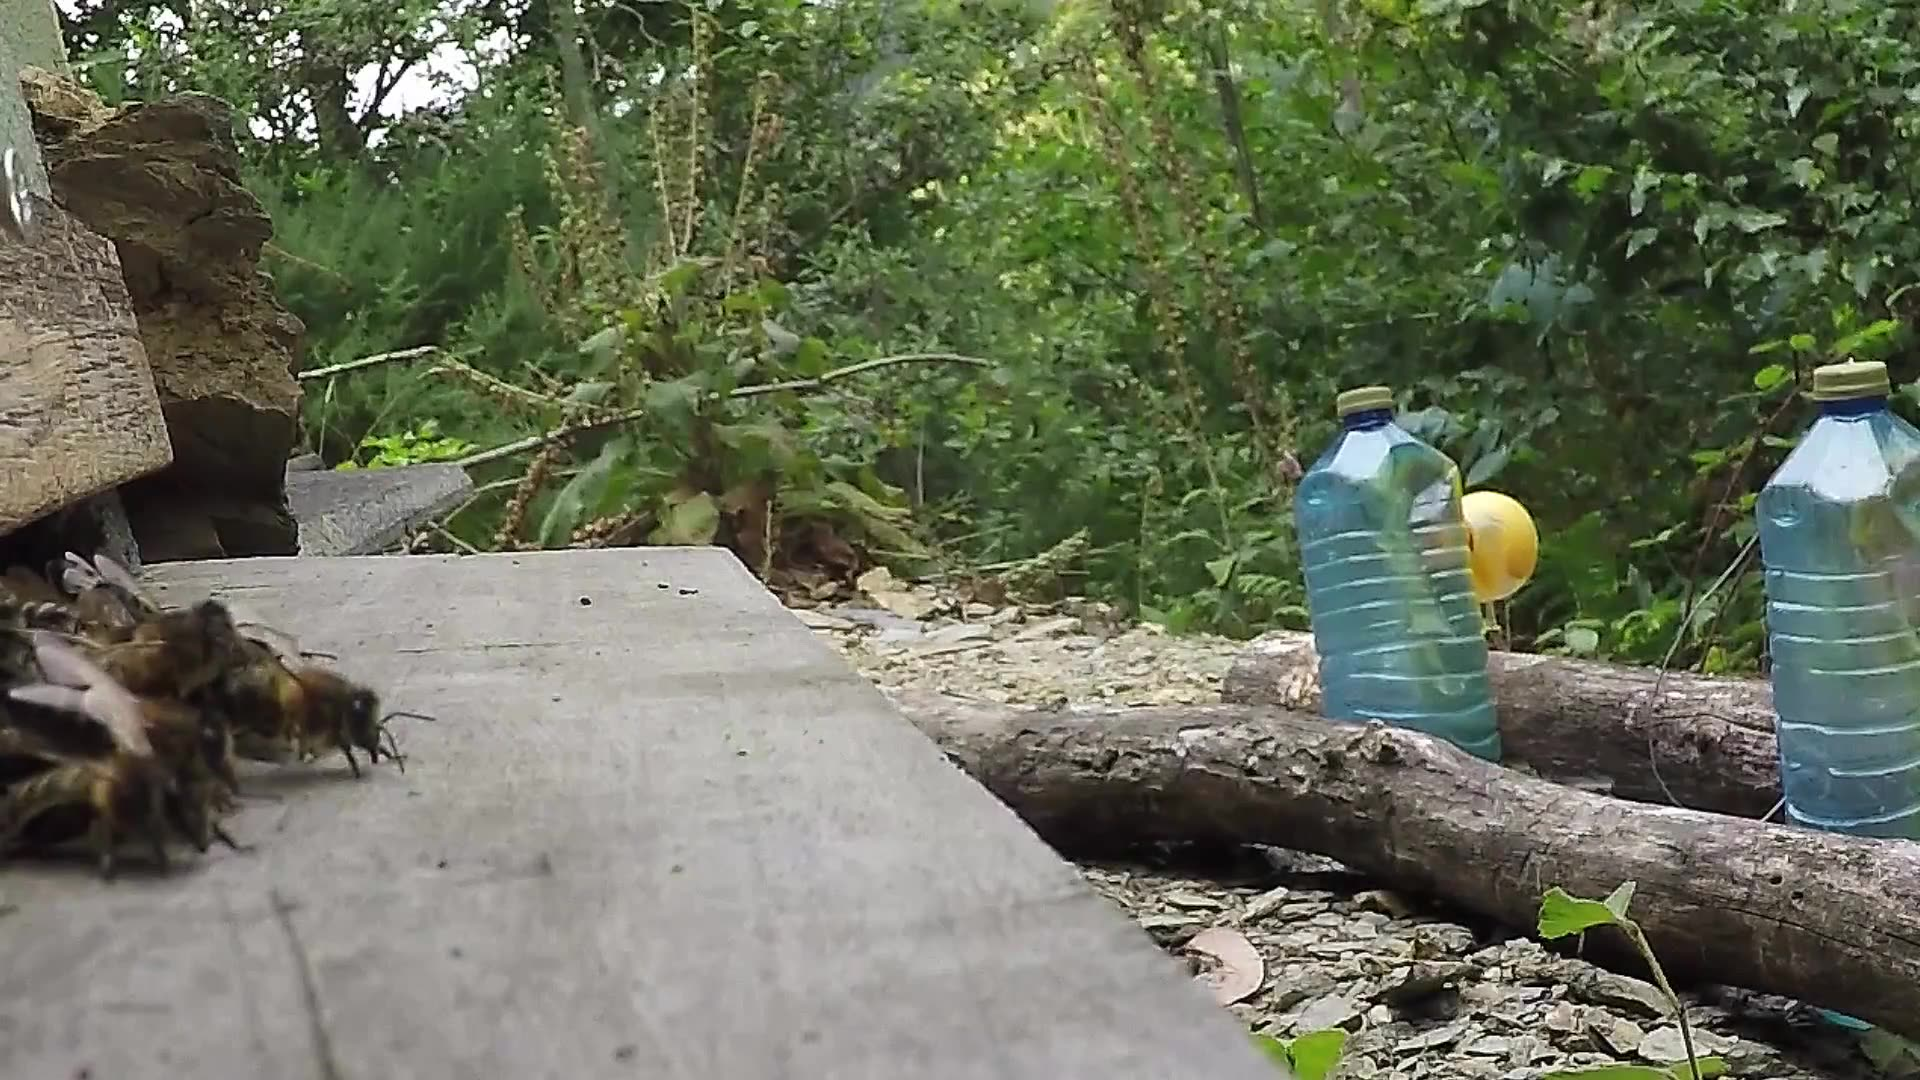bee: (1, 549, 414, 880)
